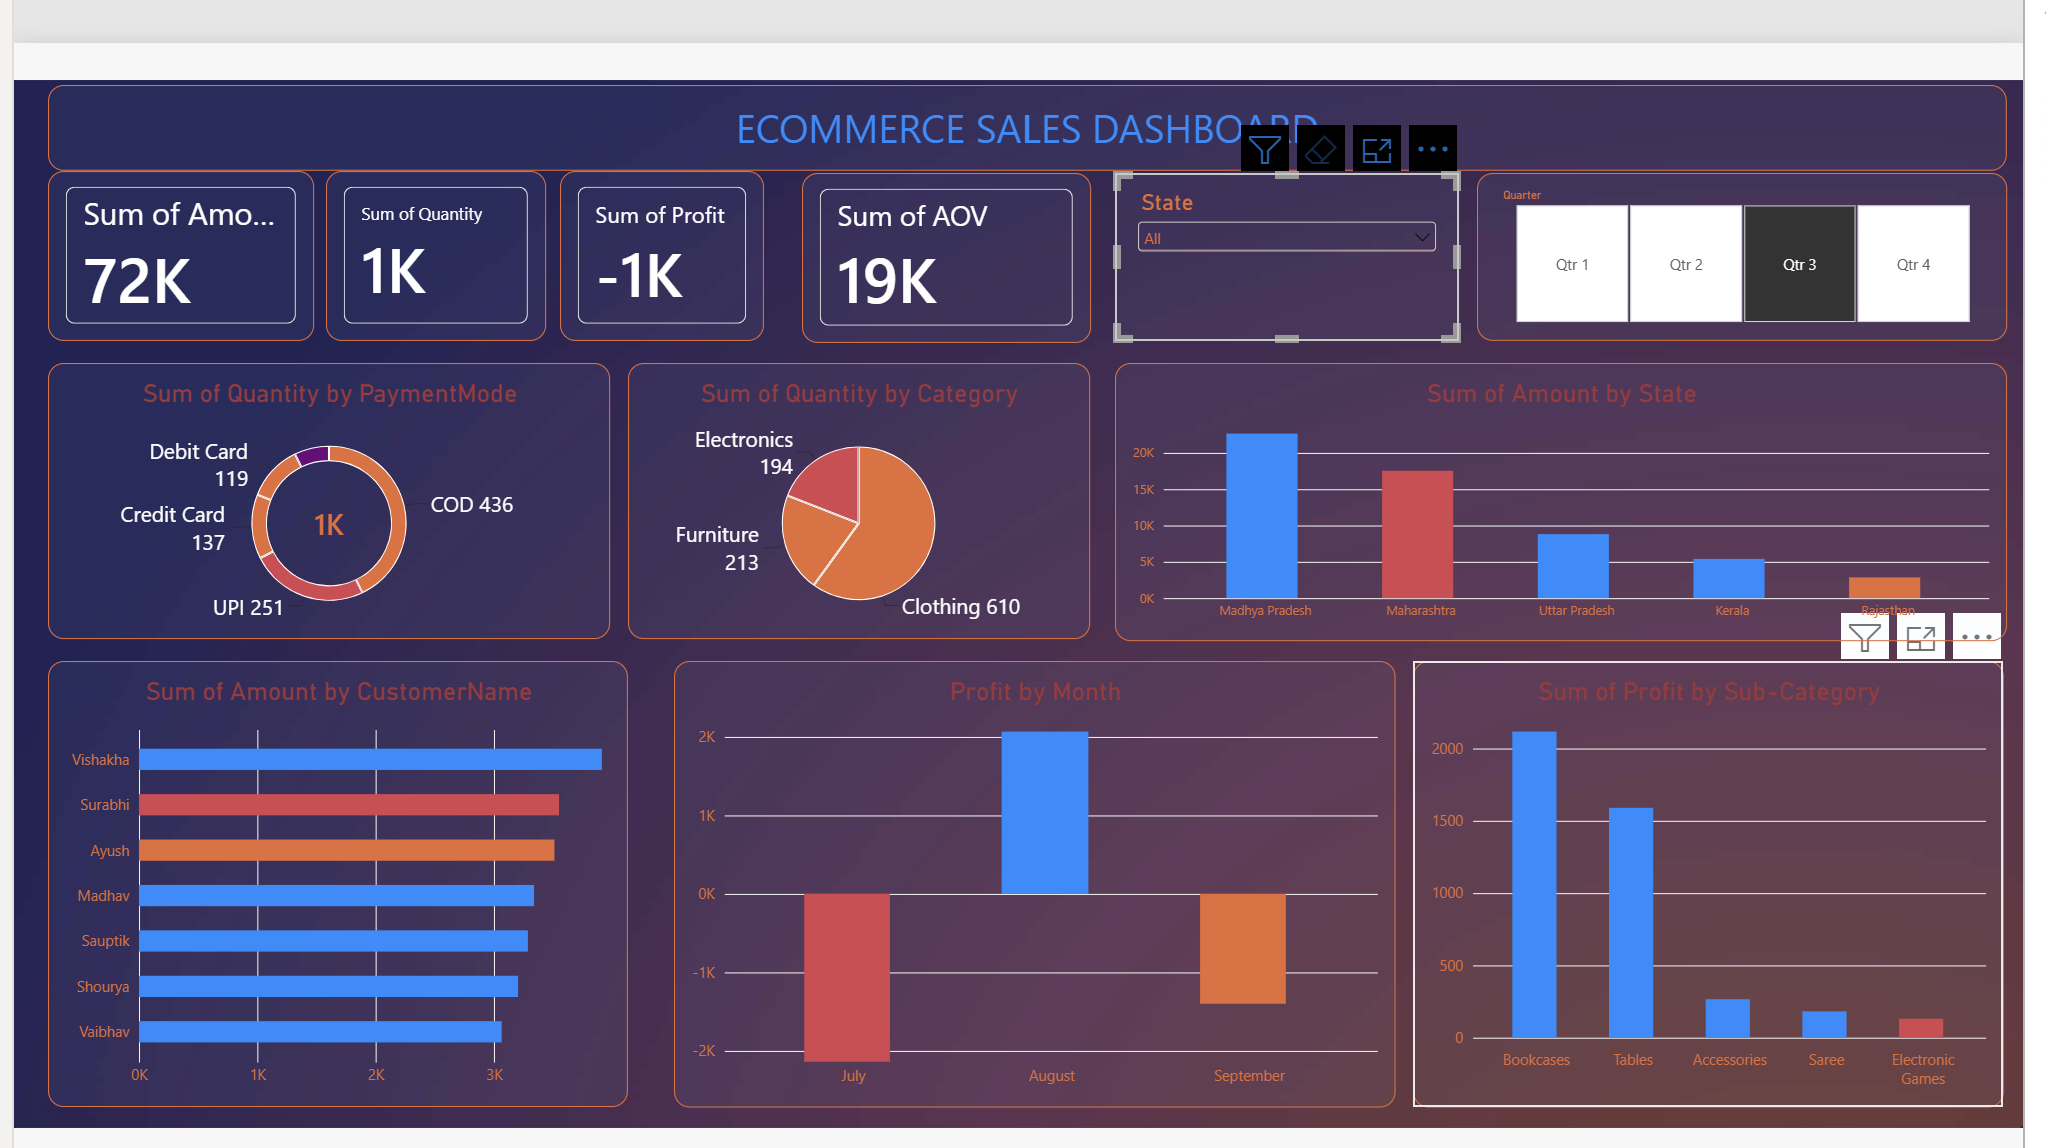

The dashboard page shown, as its layout file describes it:
{"tool":"powerbi","page":{"name":"Page 1","canvas":[1920,1080],"ordinal":0},"visuals":[{"type":"textbox","box":[32.5,40.2,1872.2,82.2],"z":0},{"type":"clusteredColumnChart","title":"Profit by Month","fields":{"Category":["Orders.Order Date.Variation.Date Hierarchy.Month"],"Y":["Sum(Details.Profit)"]},"box":[631.6,590.2,689,427.2],"z":1000},{"type":"clusteredColumnChart","fields":{"Category":["Details.Sub-Category"],"Y":["Sum(Details.Profit)"]},"box":[1336.7,590.2,565,427.2],"z":1001},{"type":"pieChart","fields":{"Category":["Details.Category"],"Y":["Sum(Details.Quantity)"]},"box":[587.9,305.5,441,264.1],"z":1002},{"type":"donutChart","fields":{"Category":["Details.PaymentMode"],"Y":["Sum(Details.Quantity)"]},"box":[32.5,306,537.4,263.9],"z":1003},{"type":"cardVisual","fields":{"Data":["Sum(Details.Amount)"]},"box":[32.5,122.4,254.3,162.5],"z":1004},{"type":"cardVisual","fields":{"Data":["Sum(Details.Quantity)"]},"box":[298.3,122.4,210.4,162.5],"z":1005},{"type":"cardVisual","fields":{"Data":["Sum(Details.AOV)"]},"box":[753.5,124.3,275.4,162.5],"z":1006},{"type":"cardVisual","fields":{"Data":["Sum(Details.Profit)"]},"box":[522.1,122.4,195.1,162.5],"z":1007},{"type":"clusteredColumnChart","fields":{"Category":["Orders.State"],"Y":["Sum(Details.Amount)"]},"box":[1051.8,306,852.9,265.8],"z":1008},{"type":"barChart","fields":{"Category":["Orders.CustomerName"],"Y":["Sum(Details.Amount)"]},"box":[32.5,590.9,554.6,426.5],"z":1009},{"type":"slicer","fields":{"Values":["Orders.State"]},"box":[1051.8,124.3,328.9,160.6],"z":1010},{"type":"slicer","fields":{"Values":["Orders.Order Date.Variation.Date Hierarchy.Quarter"]},"box":[1397.9,124.3,506.8,160.6],"z":1011}]}

Visuals, with their boxes on the page's 1920x1080 design canvas (x1, y1, x2, y2). These are canvas units, not pixel positions in the 2046x1148 screenshot, which may show the page scaled, cropped or inside an application window:
textbox: region(32, 40, 1905, 122)
"Profit by Month" clusteredColumnChart: region(632, 590, 1321, 1017)
clusteredColumnChart - Details.Sub-Category x Sum(Details.Profit): region(1337, 590, 1902, 1017)
pieChart - Details.Category x Sum(Details.Quantity): region(588, 306, 1029, 570)
donutChart - Details.PaymentMode x Sum(Details.Quantity): region(32, 306, 570, 570)
cardVisual - Sum(Details.Amount): region(32, 122, 287, 285)
cardVisual - Sum(Details.Quantity): region(298, 122, 509, 285)
cardVisual - Sum(Details.AOV): region(754, 124, 1029, 287)
cardVisual - Sum(Details.Profit): region(522, 122, 717, 285)
clusteredColumnChart - Orders.State x Sum(Details.Amount): region(1052, 306, 1905, 572)
barChart - Orders.CustomerName x Sum(Details.Amount): region(32, 591, 587, 1017)
slicer - Orders.State: region(1052, 124, 1381, 285)
slicer - Orders.Order Date.Variation.Date Hierarchy.Quarter: region(1398, 124, 1905, 285)
